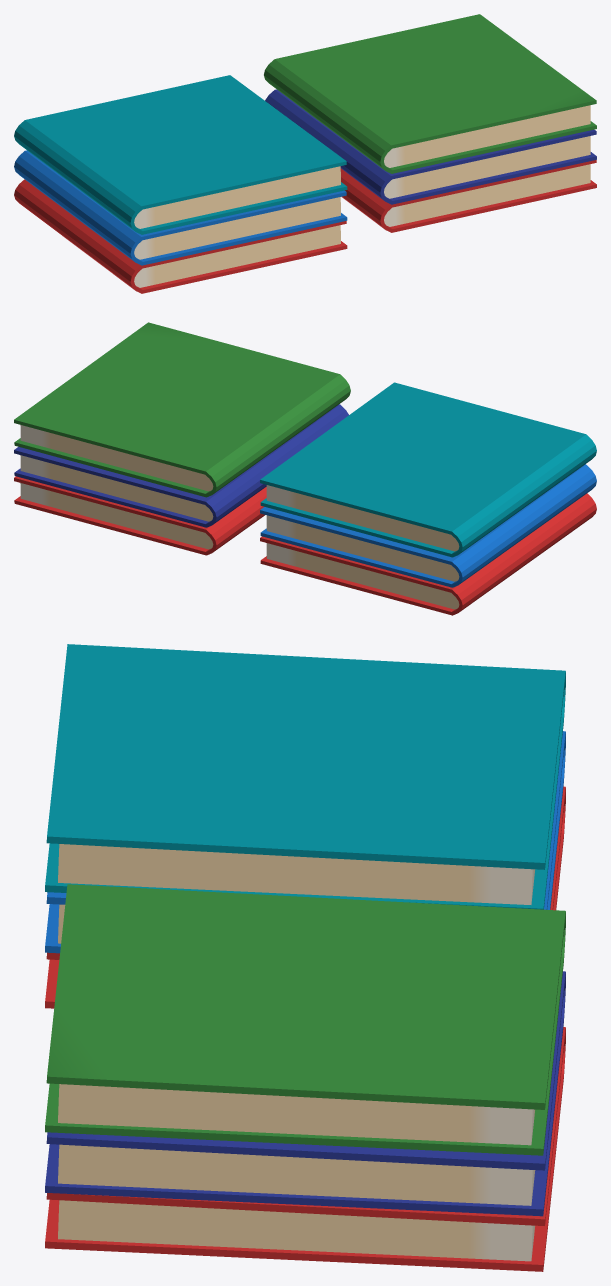
File: Book_01.fbx
3 renders of one model, top to bottom at view 1: azimuth 30°, elevation 25°; view 2: azimuth 150°, elevation 25°; view 3: azimuth 270°, elevation 25°, orthographic. The views are drawn at different scales.
Visible parts, largest first — view 1: Book_01; view 2: Book_01; view 3: Book_01.
Boxes of the visible parts, x1=… form: Book_01: x1=14, y1=14, x2=596, y2=293; Book_01: x1=14, y1=322, x2=596, y2=615; Book_01: x1=45, y1=644, x2=565, y2=1271.
Bounding box in the file's own units: 91.78 × 17.57 × 44.68.
